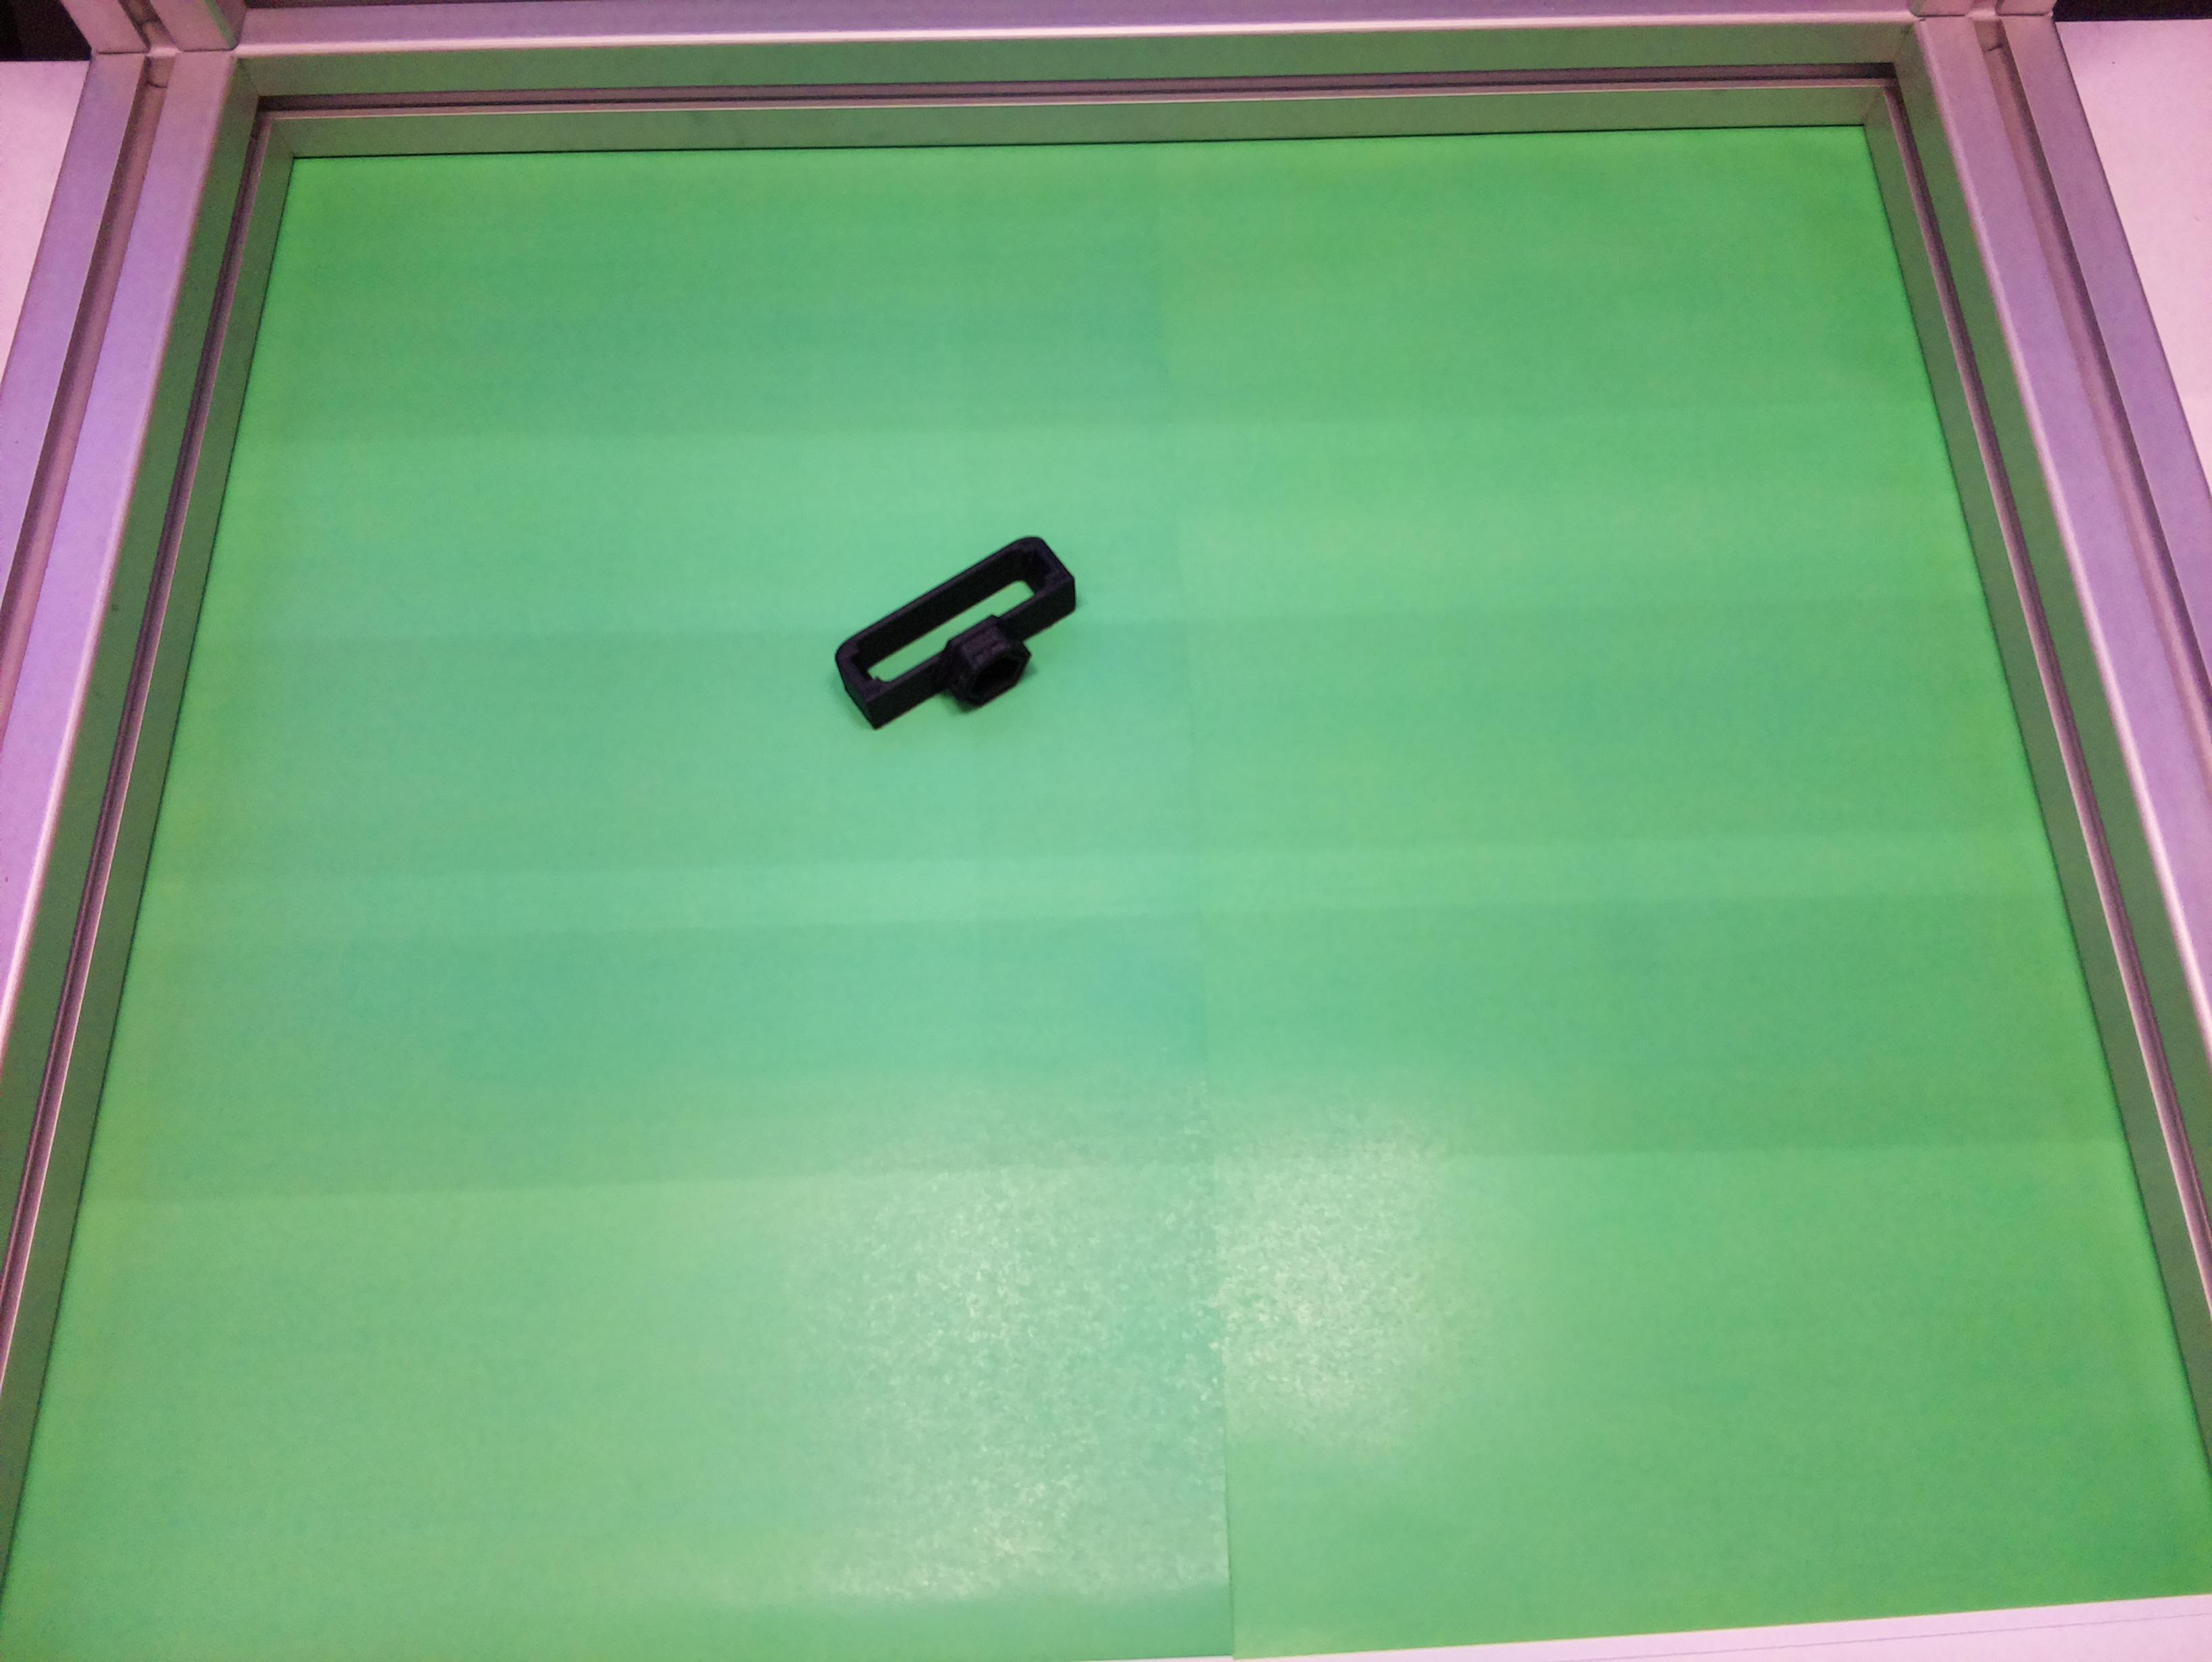cutter_holder: (822, 525, 1105, 759)
